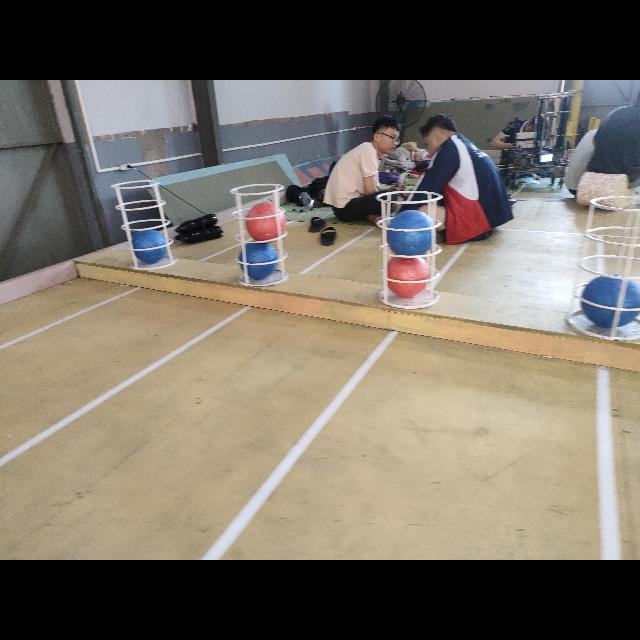B: (578, 274, 640, 328), (386, 210, 436, 258), (238, 239, 278, 279), (132, 229, 166, 263)
R: (386, 254, 430, 298), (247, 201, 286, 241)
